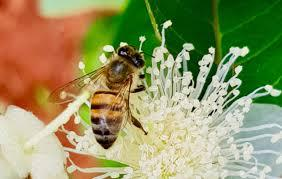Apis-mellifera-scutellata: (45, 30, 162, 154)
